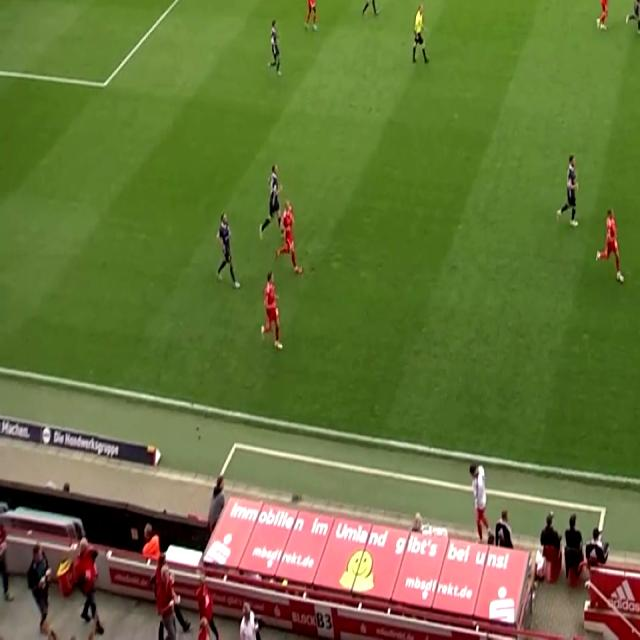referee: (408, 4, 434, 74)
soccer-player: (588, 205, 631, 292), (265, 194, 307, 280), (256, 268, 294, 356), (212, 206, 250, 292), (552, 151, 588, 233), (264, 15, 287, 80), (589, 0, 615, 39), (298, 0, 323, 39), (623, 0, 640, 44), (361, 0, 387, 18)
